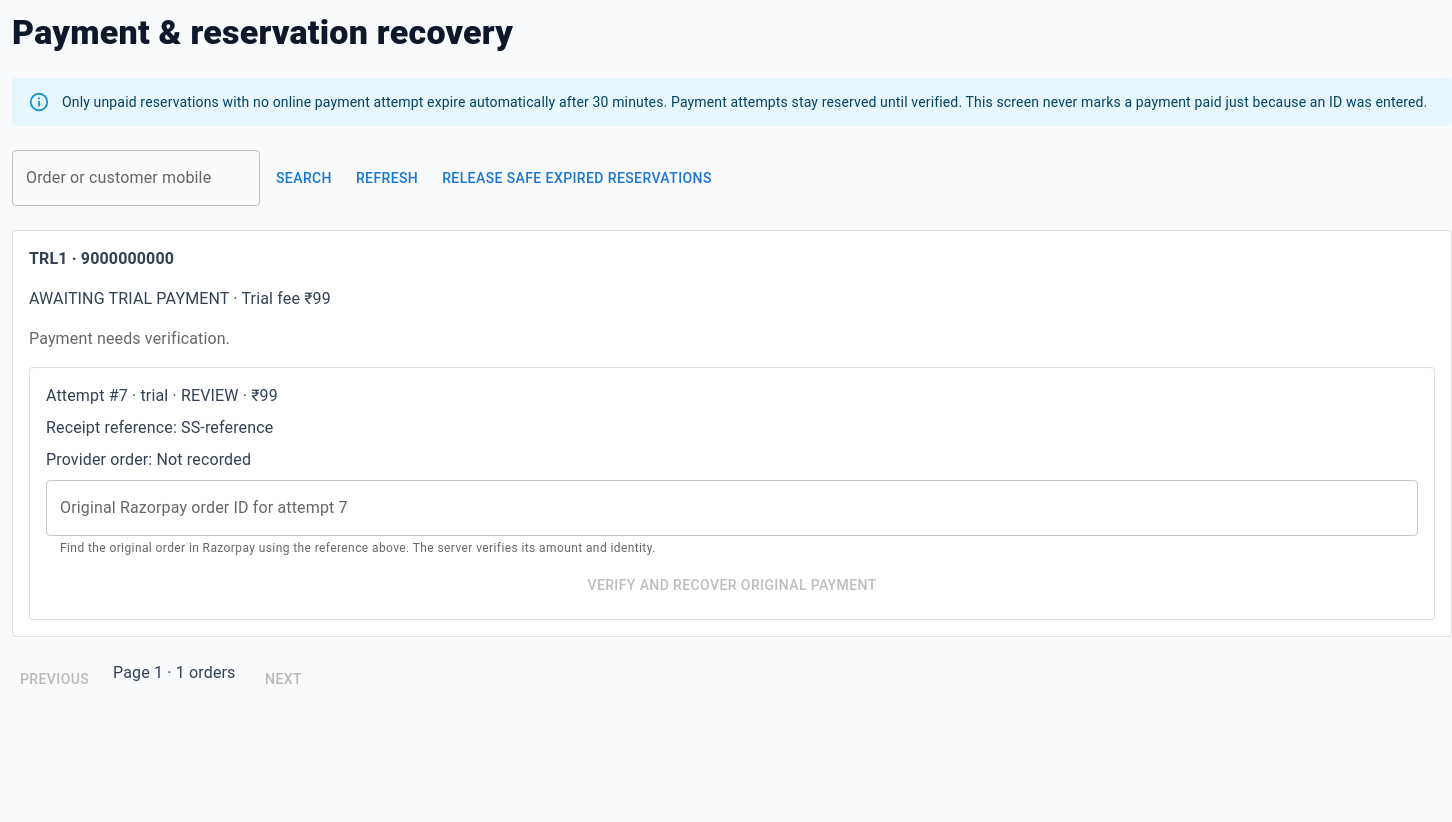
Test case: recovery failure is displayed without claiming payment success
Expected: the text "Receipt reference: SS-reference" is shown, [46,418,273,437]
Type "order_Wrong" into the field labelled "Original Razorpay order ID for attempt 7" at [732, 508], box [46,480,1418,536]
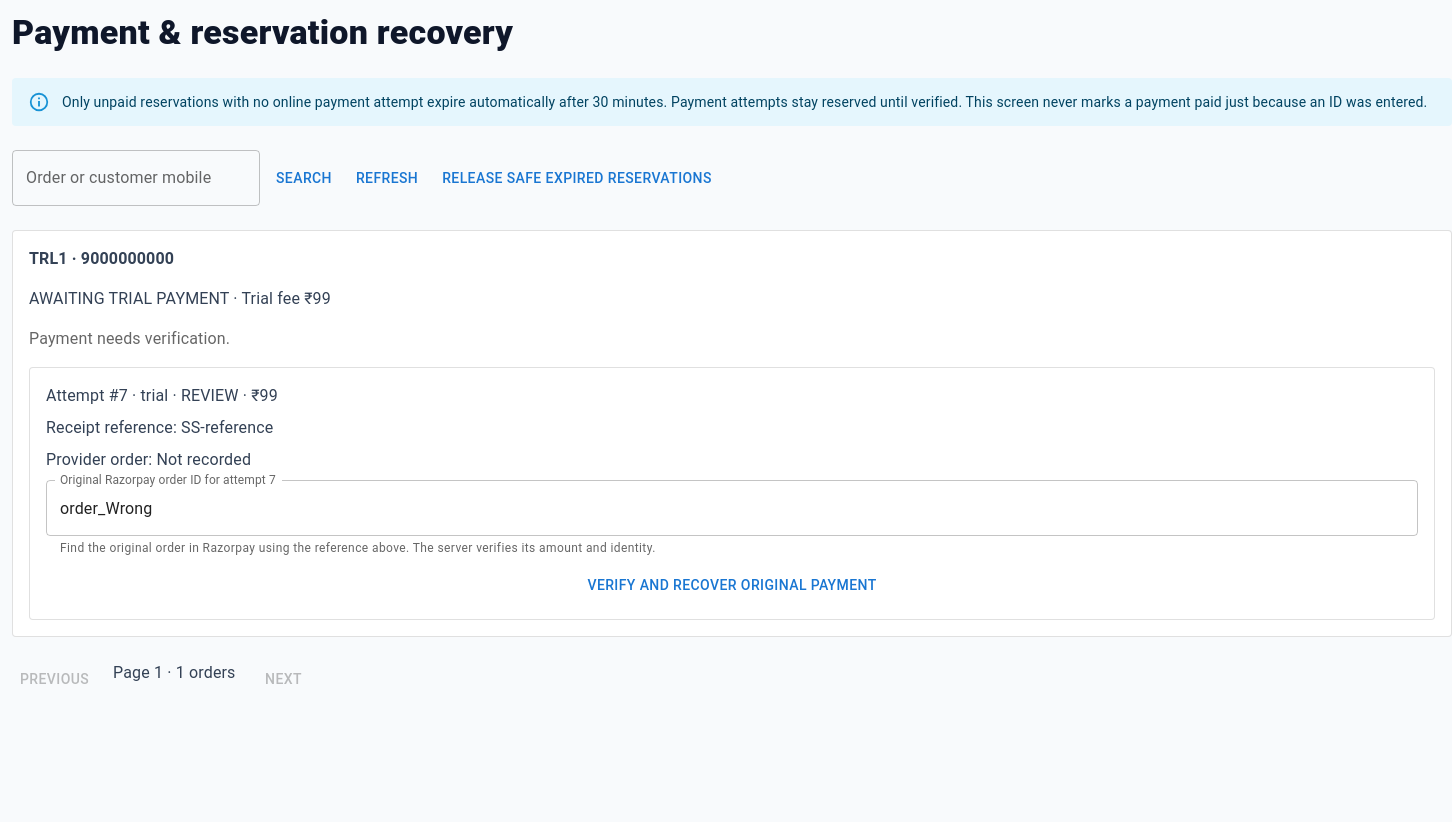
Click the button "Verify and recover original payment" at [732, 585], box [46,567,1418,603]
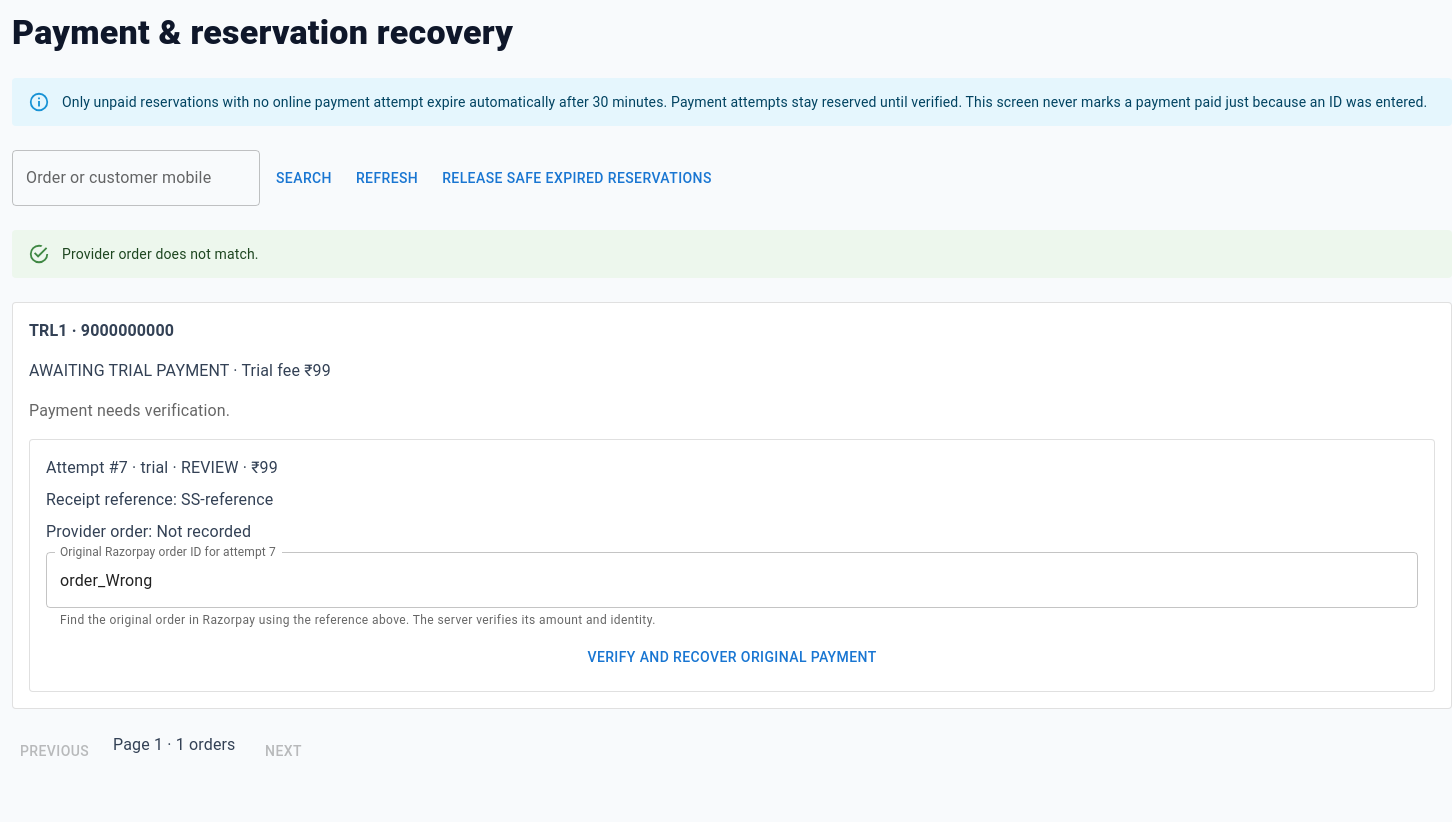
Expected: the text "Provider order does not match." is shown, [62,246,259,262]
